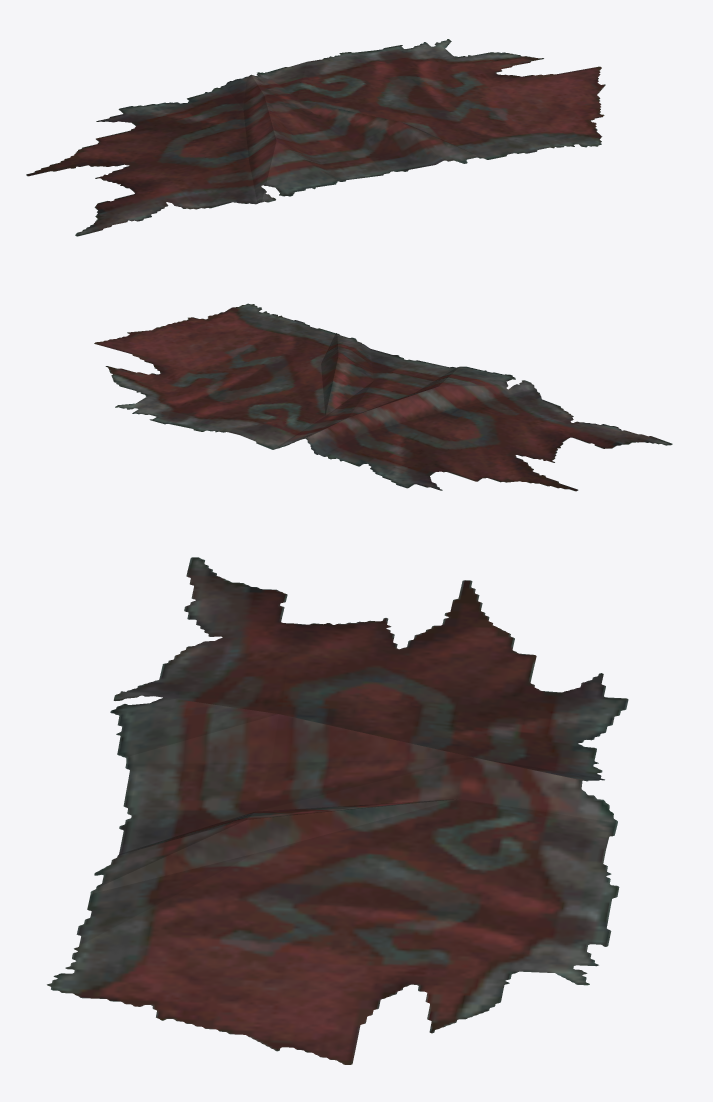
File: crypt_rug02.fbx
3 views of the same model, one above another, from view 1: azimuth 30°, elevation 25°; view 2: azimuth 150°, elevation 25°; view 3: azimuth 270°, elevation 25° (orthographic). The views are drawn at different scales.
Visible parts, largest first — view 1: obj0.108; view 2: obj0.108; view 3: obj0.108.
Part boxes in pixels (left/top/right/bottom): obj0.108: left=26, top=39, right=605, bottom=236; obj0.108: left=94, top=303, right=672, bottom=491; obj0.108: left=47, top=557, right=628, bottom=1064.
Bounding box in the file's own units: 5.97 × 0.2291 × 3.18.
